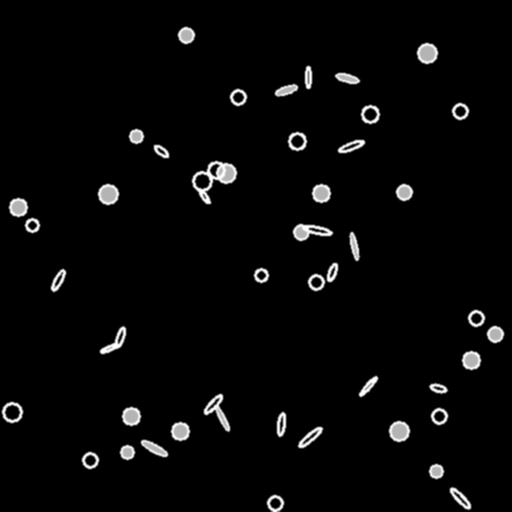pseudomonas: (297, 425, 323, 449), (448, 486, 472, 510), (140, 439, 168, 457), (358, 375, 378, 397), (203, 393, 223, 415), (338, 138, 364, 154), (214, 405, 230, 431), (50, 268, 66, 292), (274, 83, 298, 97), (303, 224, 331, 236), (152, 143, 170, 159), (335, 72, 359, 84), (114, 326, 126, 348), (349, 233, 359, 259), (326, 262, 338, 282), (99, 342, 119, 354), (197, 188, 211, 204), (276, 413, 286, 435), (429, 383, 447, 393), (305, 67, 310, 88)
synechocystis: (217, 164, 235, 182), (193, 172, 211, 190), (418, 44, 436, 62), (390, 422, 408, 440), (99, 185, 117, 203), (3, 403, 21, 421), (463, 352, 479, 368), (208, 162, 224, 178), (362, 106, 378, 122), (123, 408, 139, 424), (172, 423, 188, 439), (10, 199, 26, 215), (289, 133, 305, 149), (313, 185, 329, 201), (397, 185, 411, 199), (231, 90, 245, 104), (268, 496, 282, 510), (309, 275, 323, 289), (432, 409, 446, 423), (469, 311, 483, 325), (179, 28, 193, 42), (294, 225, 308, 239), (83, 453, 97, 467), (453, 104, 467, 118), (488, 327, 502, 341), (26, 219, 38, 231), (121, 446, 133, 458), (430, 465, 442, 477), (130, 130, 142, 142), (255, 269, 267, 281)
